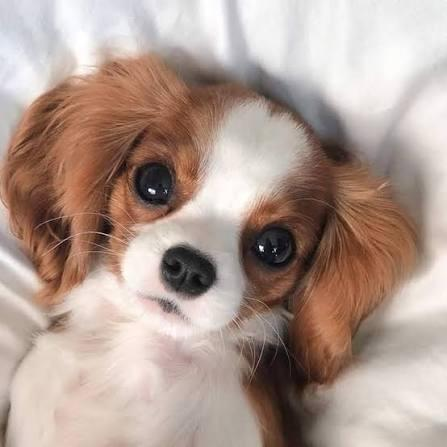puppy-dog: (1, 42, 431, 447)
